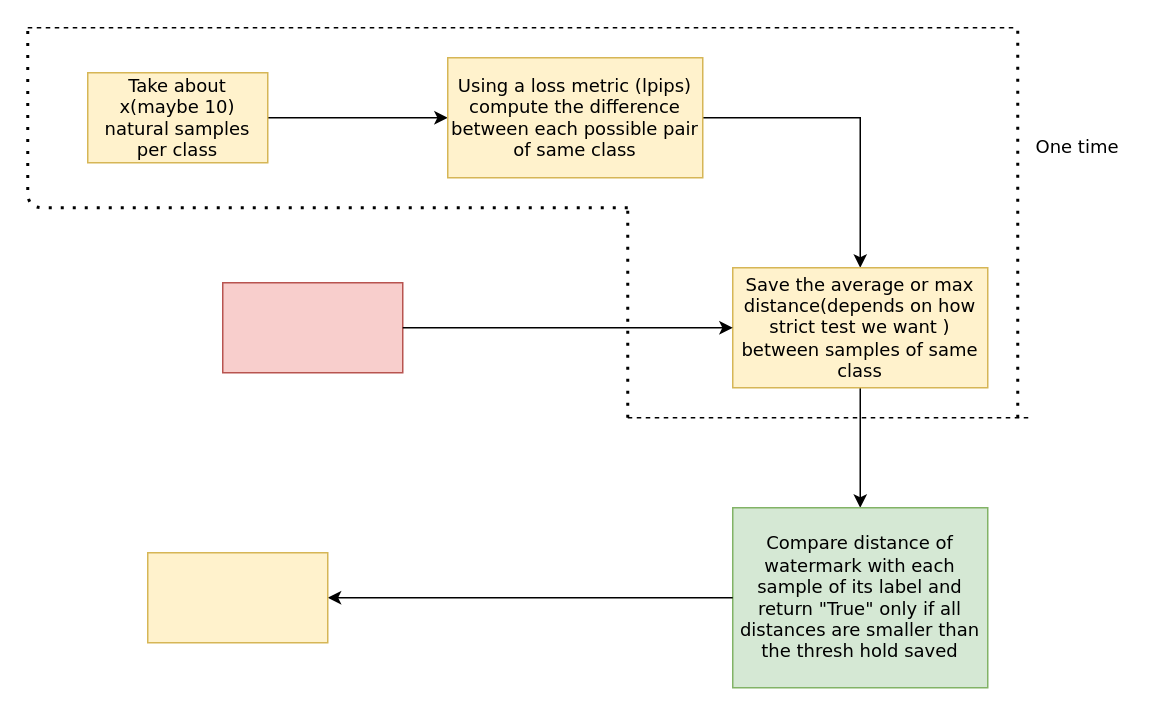
The diagram is 1163 pixels wide and 714 high, and some of its shapes have lost their labels. The centre of each missing label's shape, as x and y in pixels:
Back to watermark generator: [237,597]
Give generated watermark: [312,327]
